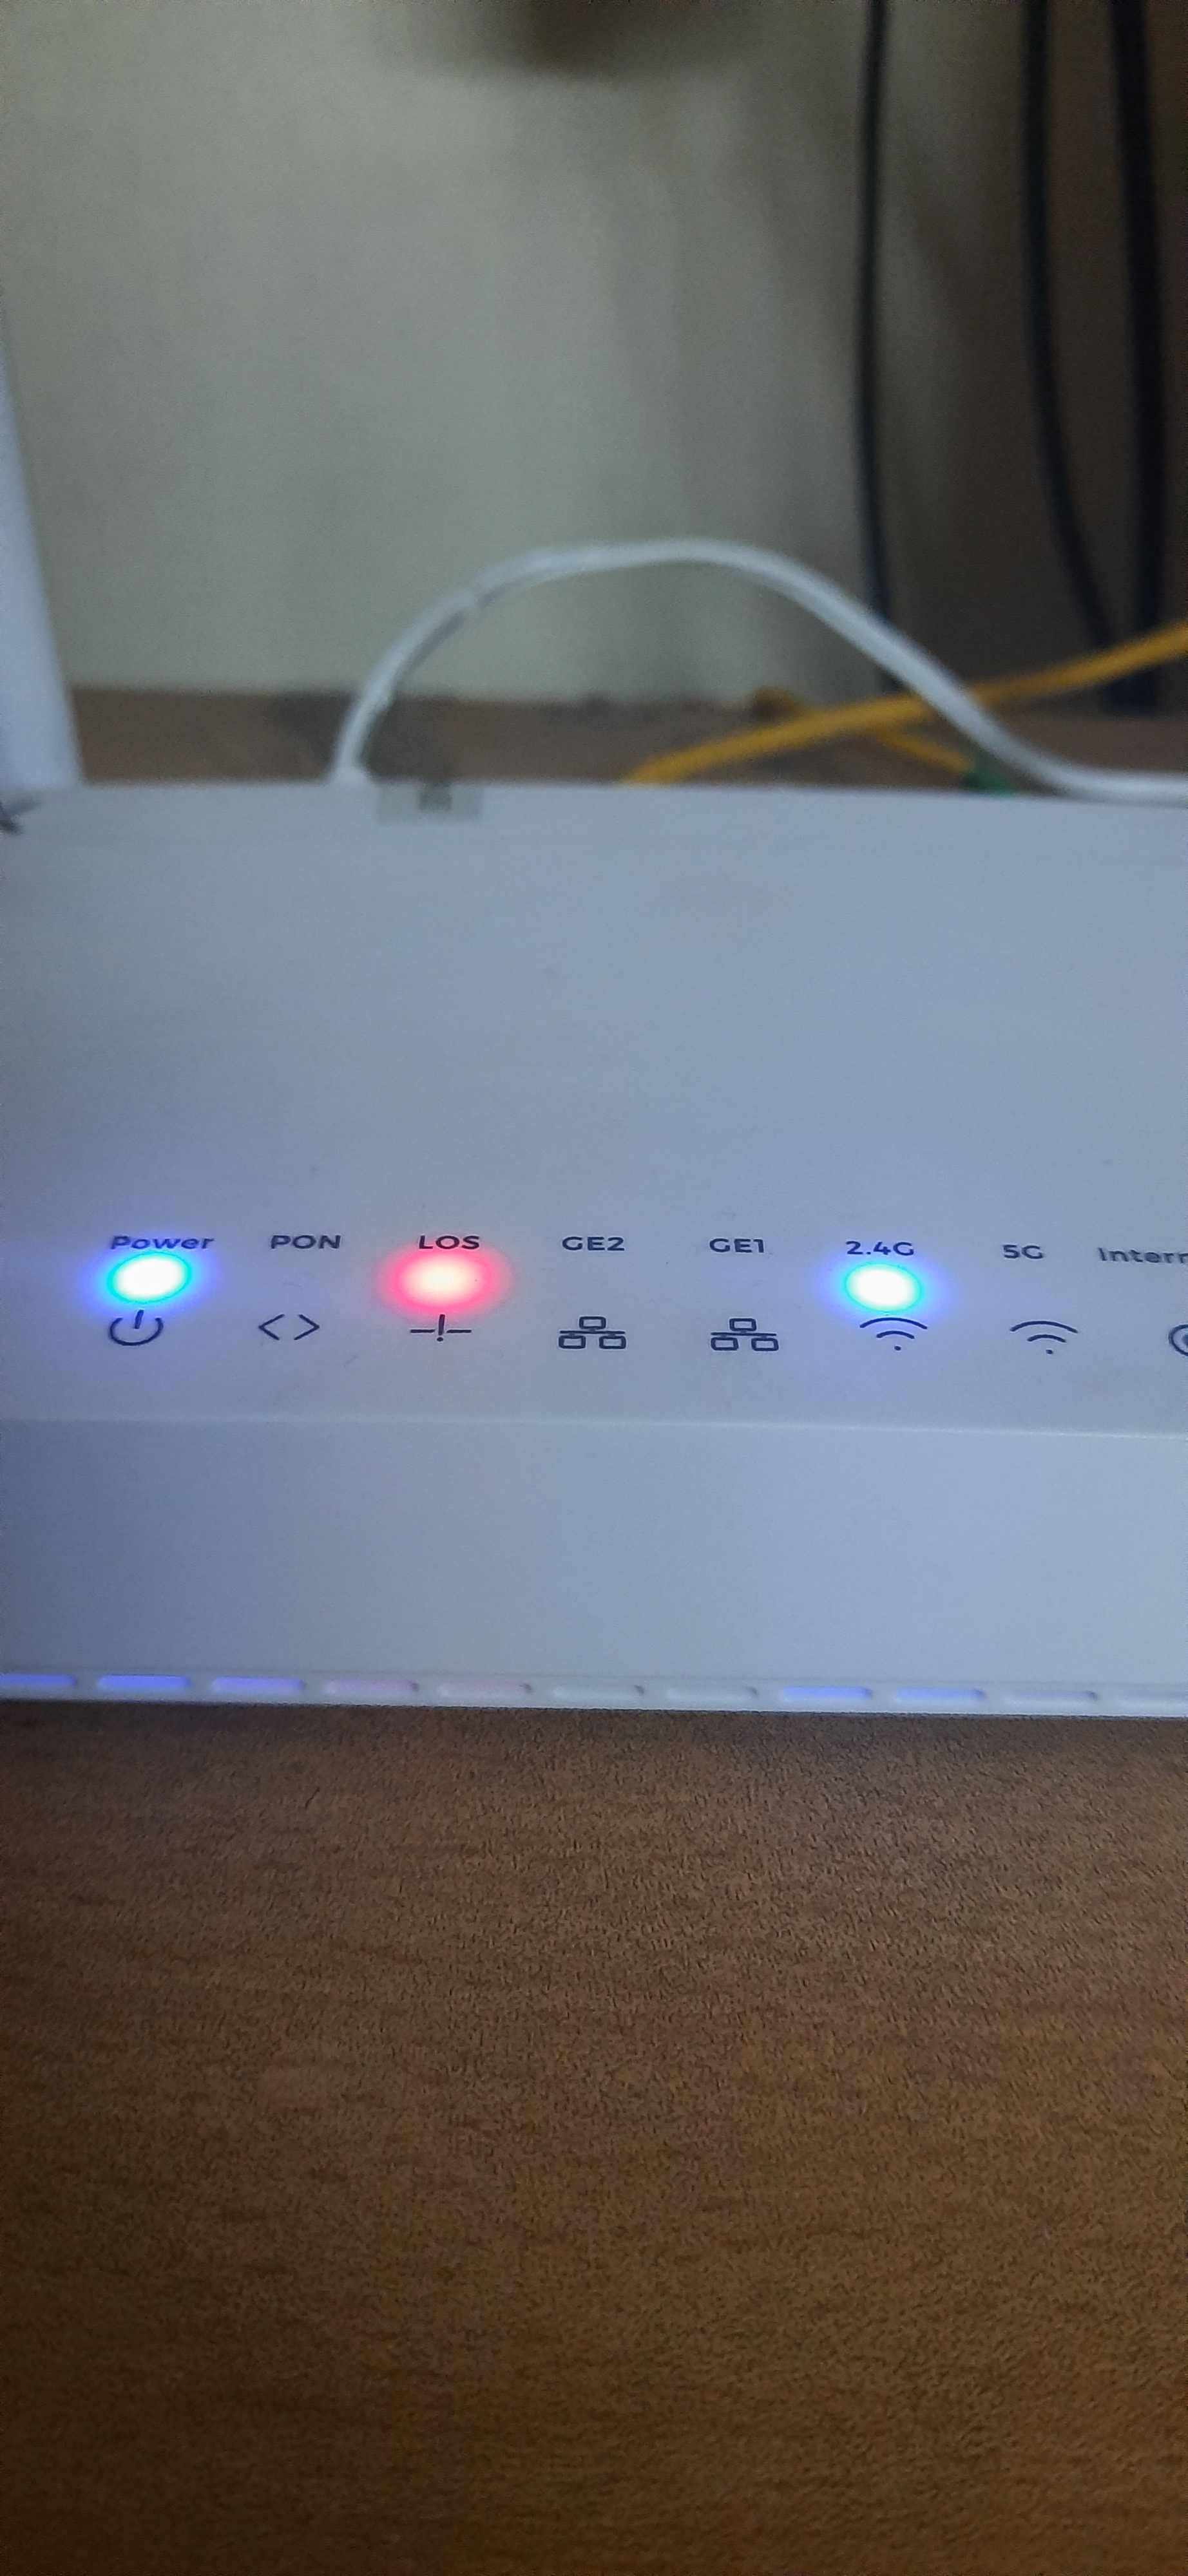LOSConnectionIssue: (363, 1198, 526, 1449)
